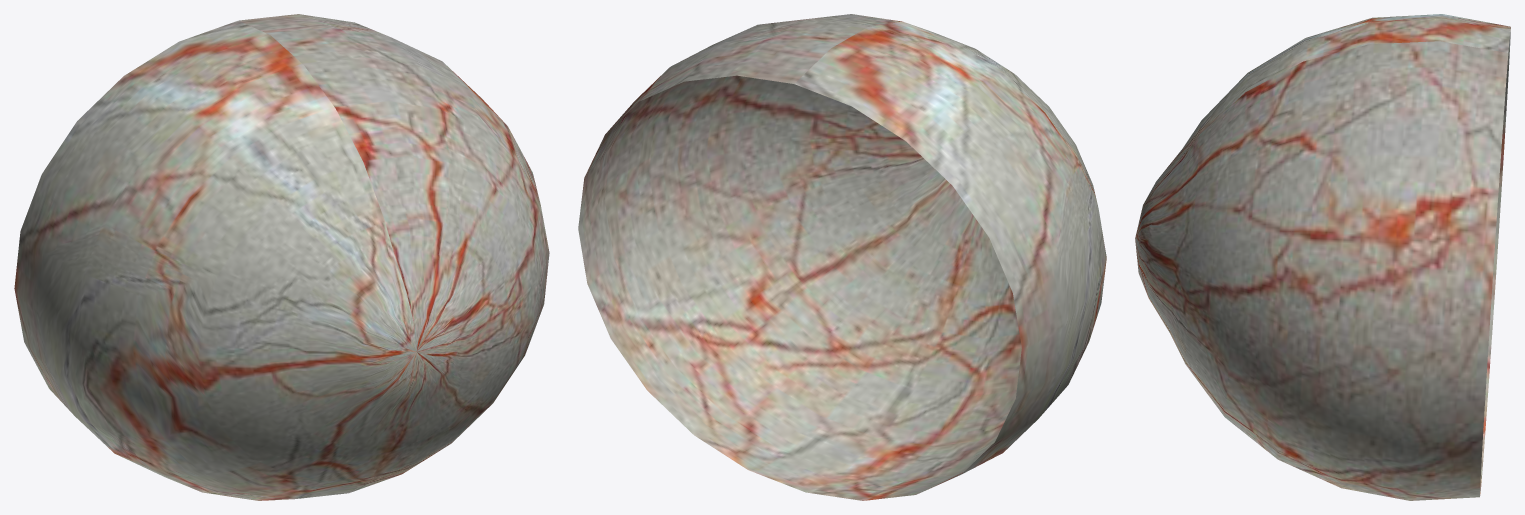
File: PastPersonaEye.fbx
3 renders of one model, left to right at view 1: azimuth 30°, elevation 25°; view 2: azimuth 150°, elevation 25°; view 3: azimuth 270°, elevation 25°, orthographic.
Visible parts, largest first — view 1: challenger_eyes_refl2; view 2: challenger_eyes_refl2; view 3: challenger_eyes_refl2.
Boxes of the visible parts, box(x1,y1,x2,y2) form: challenger_eyes_refl2: box(14, 14, 549, 500); challenger_eyes_refl2: box(578, 14, 1106, 500); challenger_eyes_refl2: box(1135, 14, 1510, 500).
Size of the model in its own units: 1.04 by 0.9165 by 0.7232.
1 material, 1 textured.
